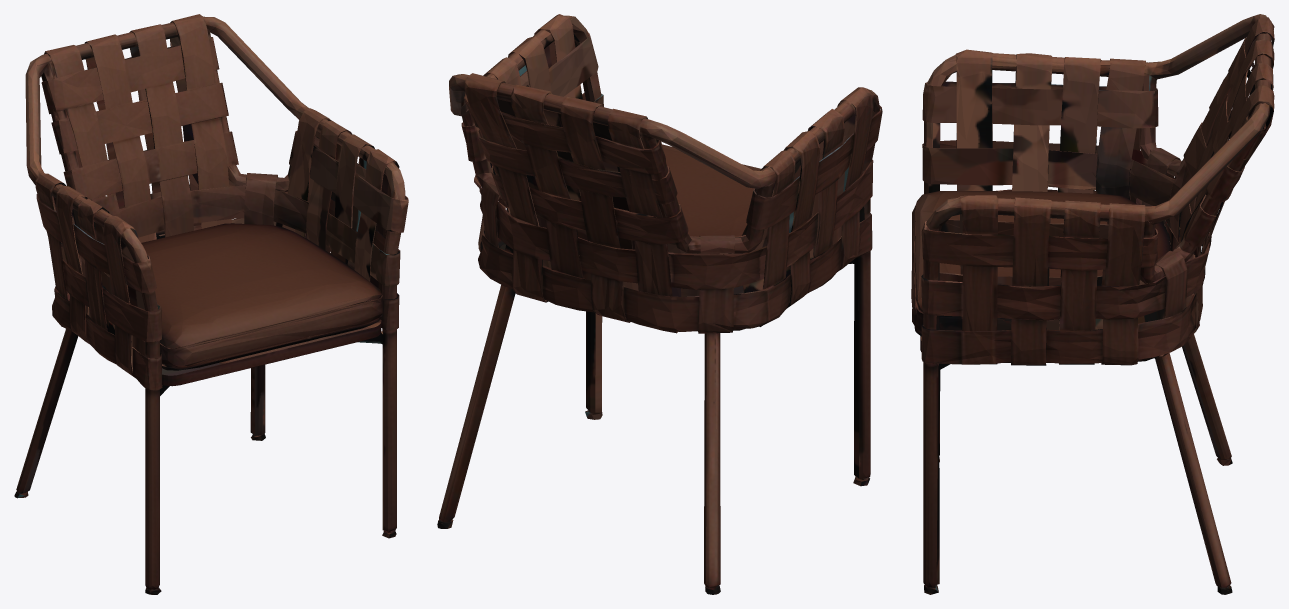
File: edited_mesh.glb
3 renders of one model, left to right at view 1: azimuth 30°, elevation 25°; view 2: azimuth 150°, elevation 25°; view 3: azimuth 270°, elevation 25°, orthographic. The views are drawn at different scales.
Visible parts, largest first — view 1: solid_001_wire; view 2: solid_001_wire; view 3: solid_001_wire.
Boxes of the visible parts, x1,y1,x2,y2 form: solid_001_wire: (14, 14, 408, 594); solid_001_wire: (437, 14, 882, 594); solid_001_wire: (911, 14, 1274, 594).
Bounding box in the file's own units: 1.04 × 1.48 × 1.04.
Materials: 1 (1 with a texture image).
